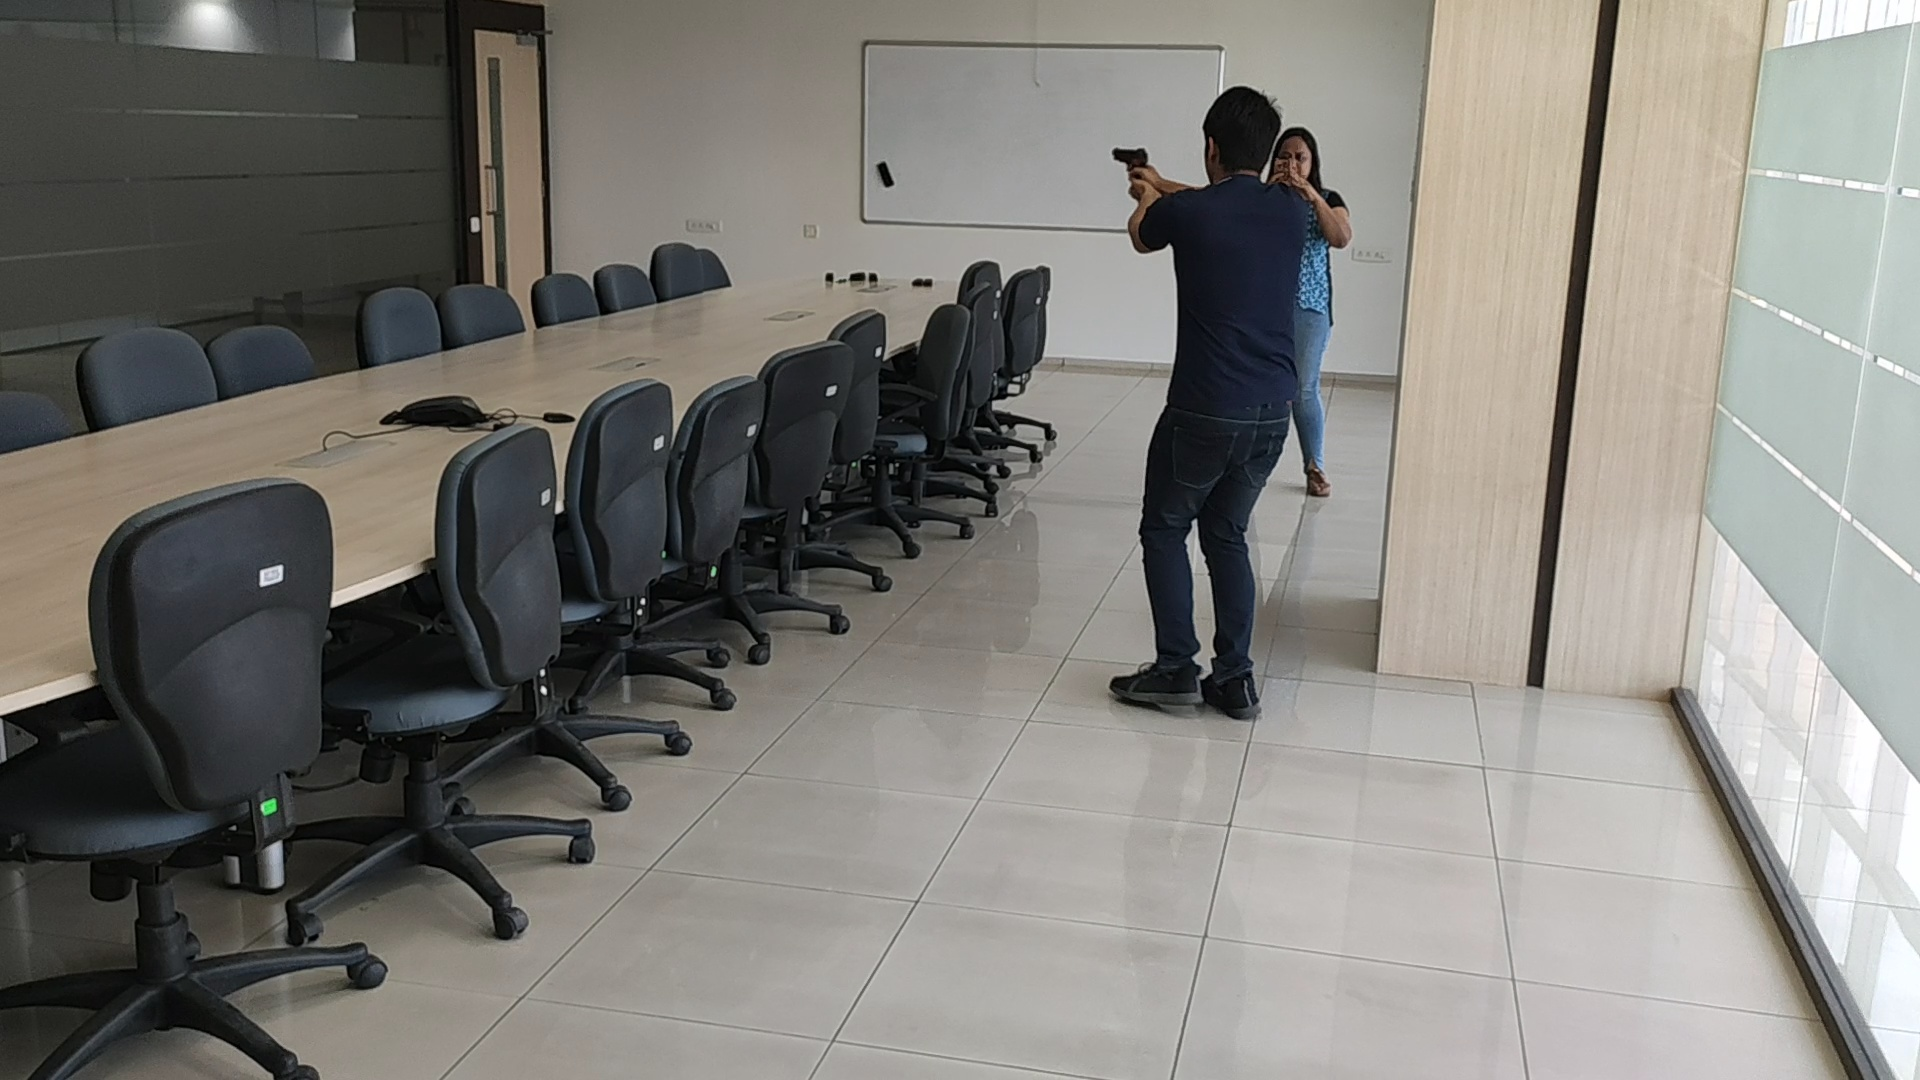gun: (1112, 144, 1147, 173)
